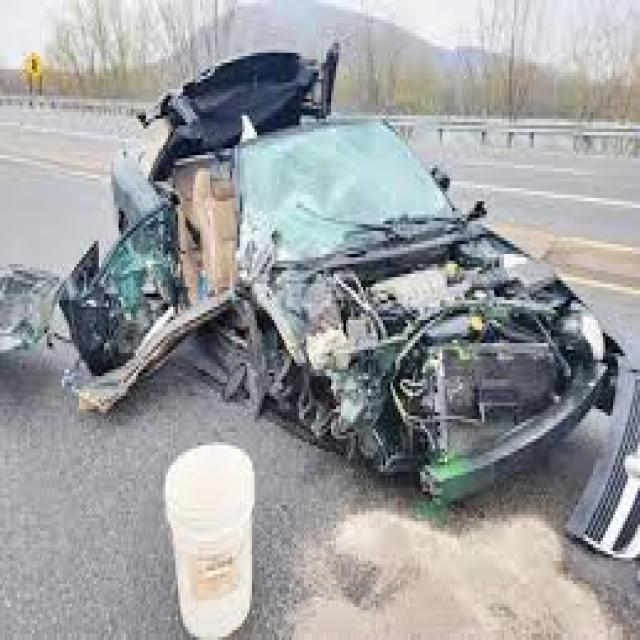accident: (72, 76, 604, 496)
